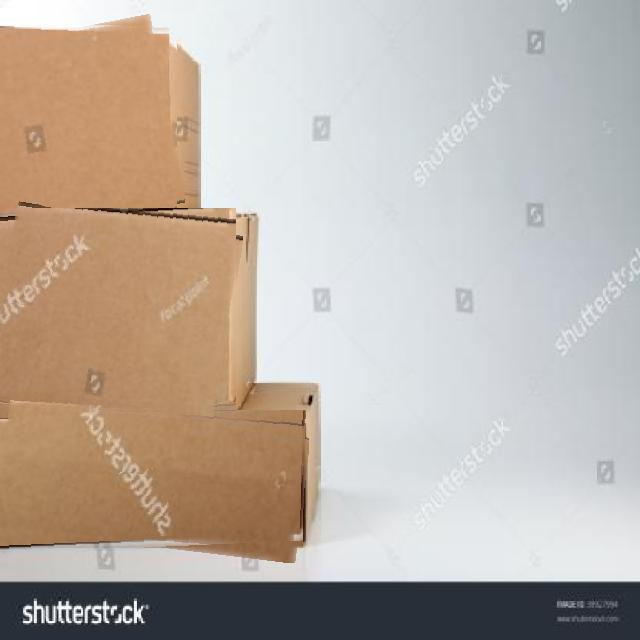BoxFace: (0, 208, 236, 428), (0, 410, 306, 554), (0, 21, 177, 226)
